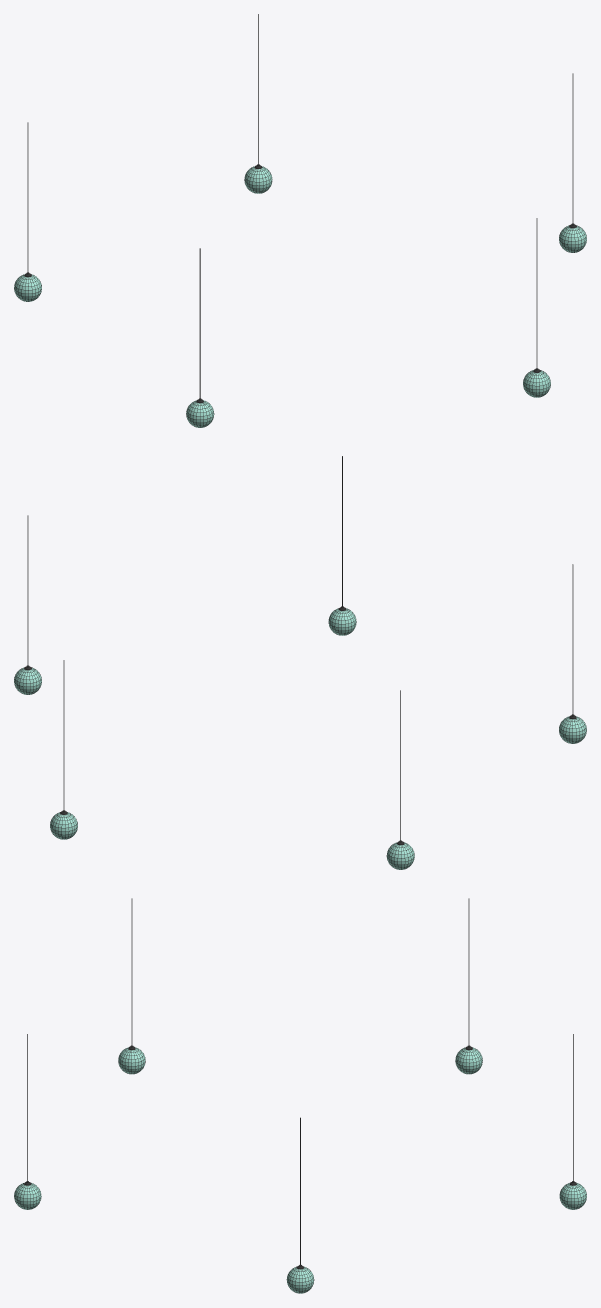
File: Pendant Light.fbx
The picture shows the model from 3 angles, top to bottom: view 1: azimuth 30°, elevation 25°; view 2: azimuth 150°, elevation 25°; view 3: azimuth 270°, elevation 25°; orthographic projection. The views are drawn at different scales.
Parts seen in each view (by area): view 1: Pendant Light; view 2: Pendant Light; view 3: Pendant Light.
Part boxes in pixels (bbox=[...]): Pendant Light: bbox=[14, 14, 586, 427]; Pendant Light: bbox=[14, 456, 586, 869]; Pendant Light: bbox=[14, 898, 586, 1293].
Size of the model in its own units: 751 by 265 by 788.
